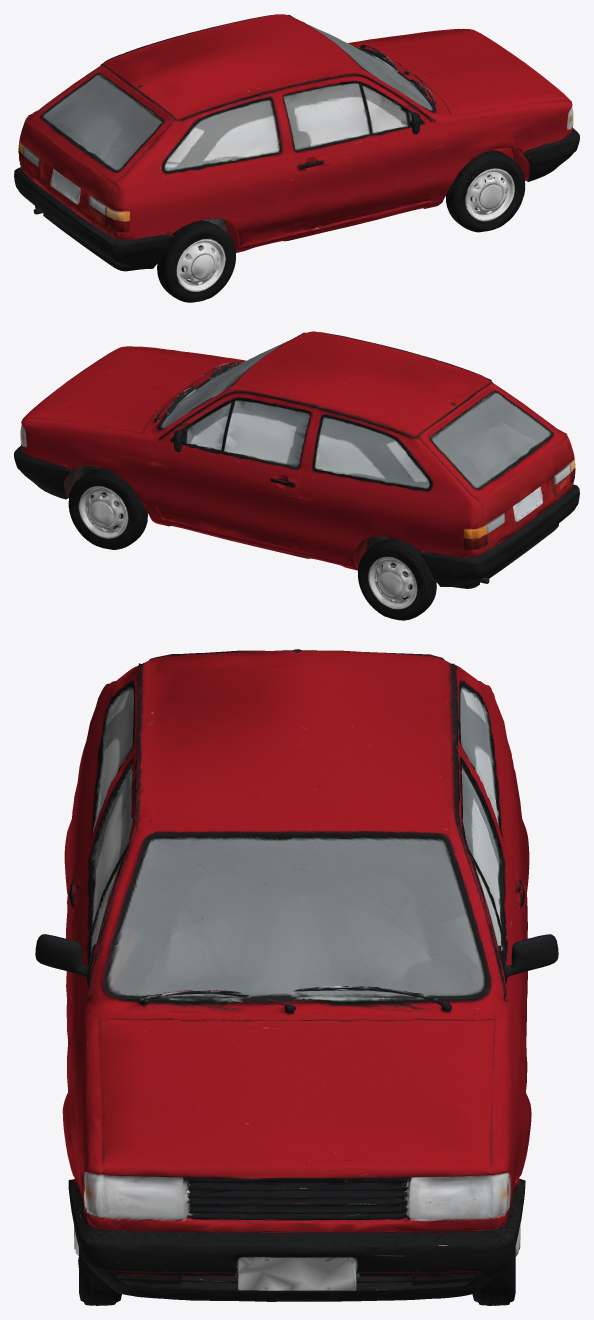
File: hatch-quadrado-v2-120k__01a17dd1.glb
3 renders of one model, top to bottom at view 1: azimuth 30°, elevation 25°; view 2: azimuth 150°, elevation 25°; view 3: azimuth 270°, elevation 25°, orthographic. The views are drawn at different scales.
Parts seen in each view (by area): view 1: hatch-quadrado-v2; view 2: hatch-quadrado-v2; view 3: hatch-quadrado-v2.
Part boxes in pixels (left/top/right/bottom): hatch-quadrado-v2: left=14, top=14, right=579, bottom=302; hatch-quadrado-v2: left=14, top=331, right=579, bottom=620; hatch-quadrado-v2: left=35, top=649, right=558, bottom=1305.
Bounding box in the file's own units: 3.81 × 1.43 × 1.83.
Materials: 1 (1 with a texture image).
